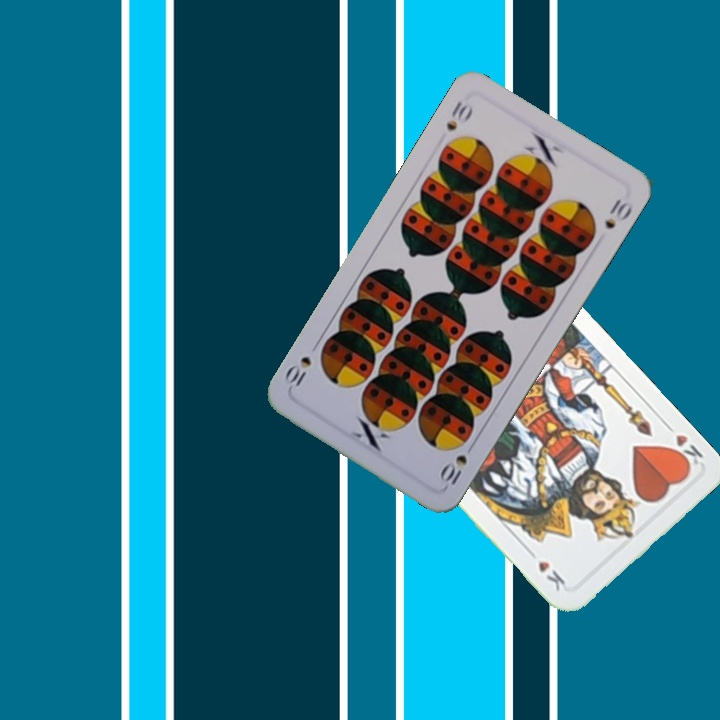HK: (660, 418, 706, 473)
S10: (436, 437, 478, 488), (442, 96, 476, 134)
